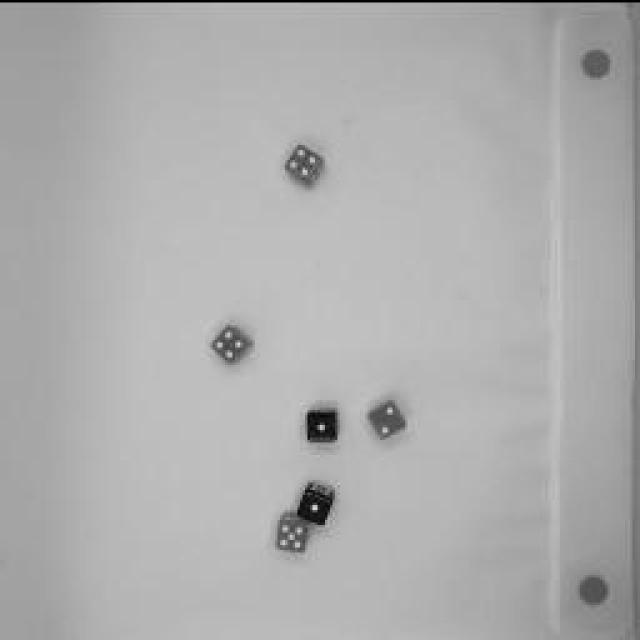dice_1: (295, 479, 337, 526), (304, 402, 341, 442)
dice_2: (362, 391, 408, 444)
dice_4: (206, 319, 259, 366), (280, 138, 328, 188)
dice_5: (272, 508, 312, 552)
